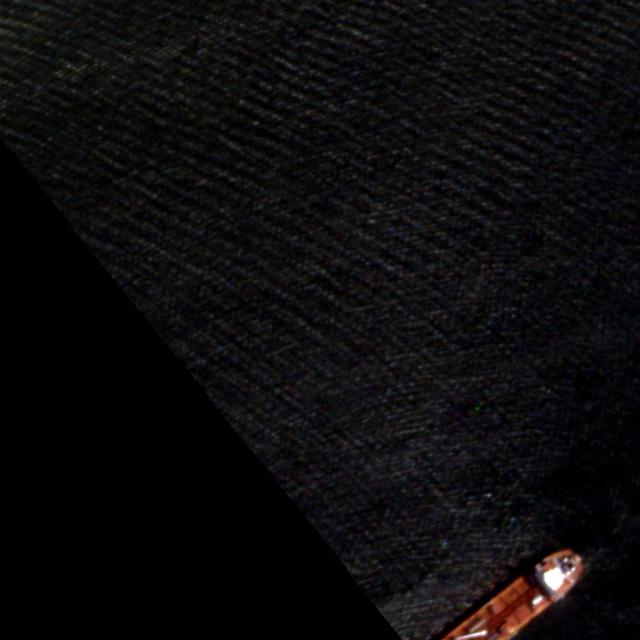boats: (432, 547, 595, 639)
